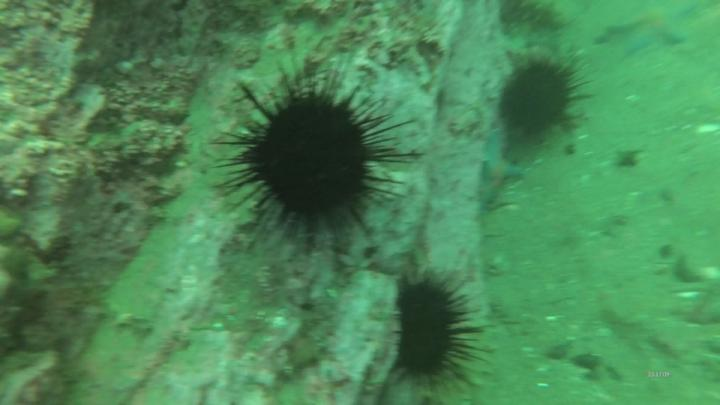echinus: (232, 69, 400, 247), (498, 54, 579, 154), (392, 279, 464, 381)
holothurian: (419, 310, 501, 405)
starfish: (606, 2, 709, 57), (476, 132, 527, 211)
